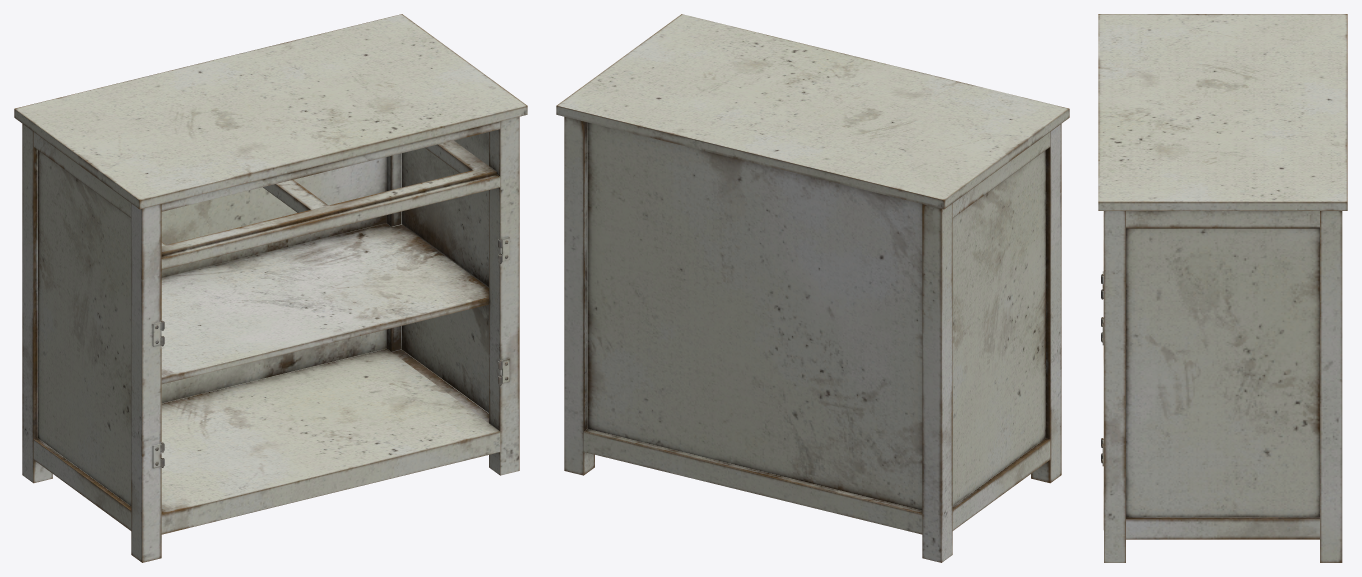
File: Cabinet.fbx
3 renders of one model, left to right at view 1: azimuth 30°, elevation 25°; view 2: azimuth 150°, elevation 25°; view 3: azimuth 270°, elevation 25°, orthographic.
Parts seen in each view (by area): view 1: Mesh_Cabinet_01_LOD0; view 2: Mesh_Cabinet_01_LOD0; view 3: Mesh_Cabinet_01_LOD0.
Boxes of the visible parts, x1,y1,x2,y2 form: Mesh_Cabinet_01_LOD0: [14, 14, 527, 562]; Mesh_Cabinet_01_LOD0: [556, 14, 1069, 562]; Mesh_Cabinet_01_LOD0: [1098, 14, 1347, 562].
Size of the model in its own units: 90.23 by 81.29 by 50.5.
